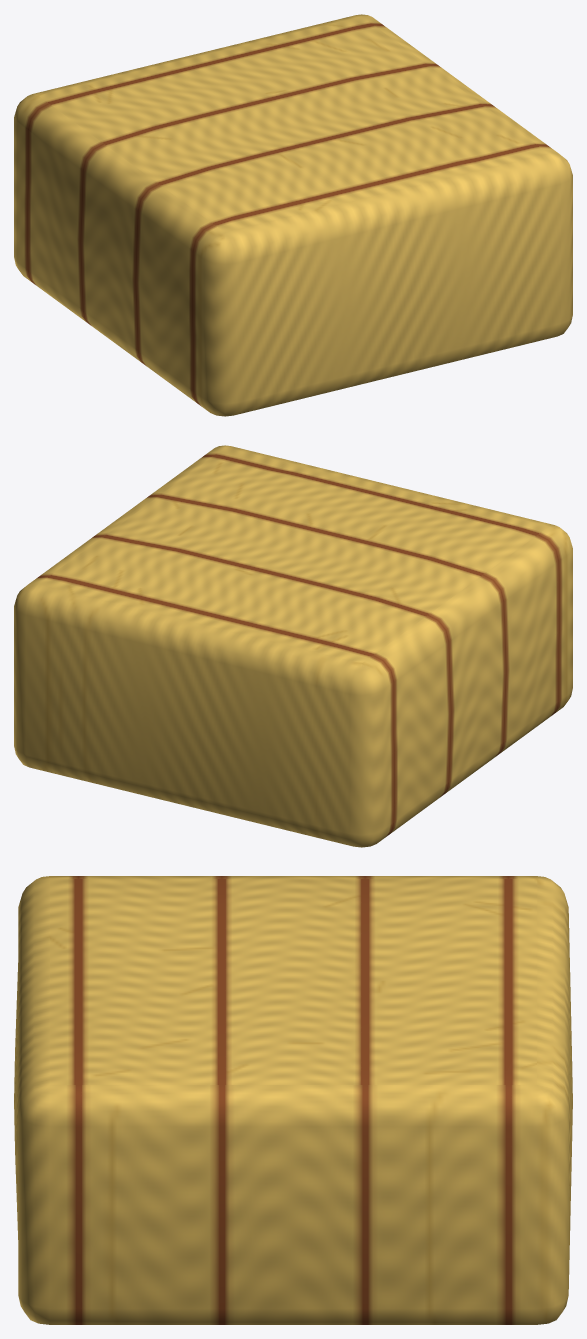
The model's file is HayBale_2x2.fbx.
3 renders of one model, top to bottom at view 1: azimuth 30°, elevation 25°; view 2: azimuth 150°, elevation 25°; view 3: azimuth 270°, elevation 25°, orthographic. The views are drawn at different scales.
Parts seen in each view (by area): view 1: HayBale_2x2; view 2: HayBale_2x2; view 3: HayBale_2x2.
Part boxes in pixels (x1,y1,x2,y2): HayBale_2x2: (14, 14, 572, 416); HayBale_2x2: (14, 445, 572, 847); HayBale_2x2: (14, 876, 572, 1324).
Bounding box in the file's own units: 1.95 × 0.9078 × 1.95.
Materials: 1 (1 with a texture image).
